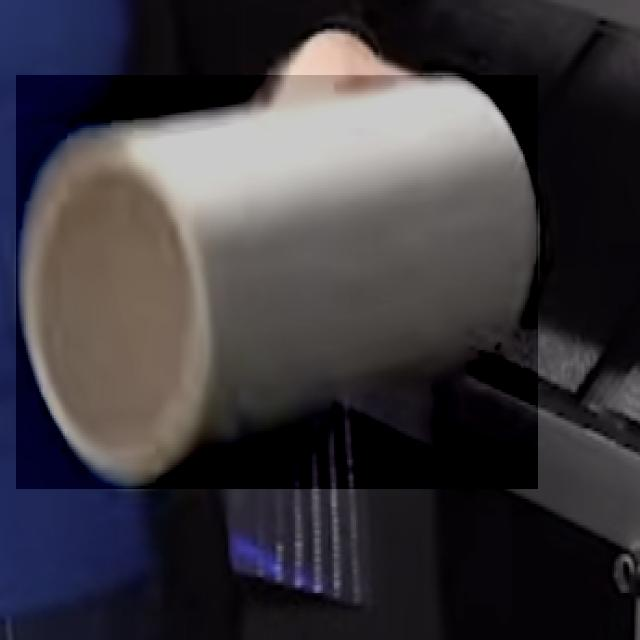Coral: (16, 75, 538, 489)
